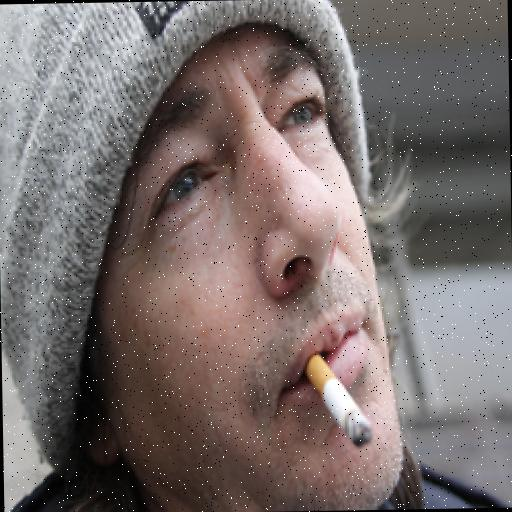terdeteksi merokok: (250, 197, 430, 484)
